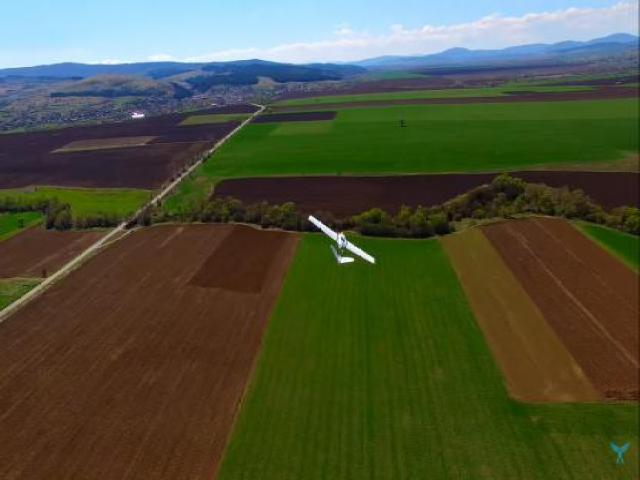uav: (305, 205, 378, 273)
